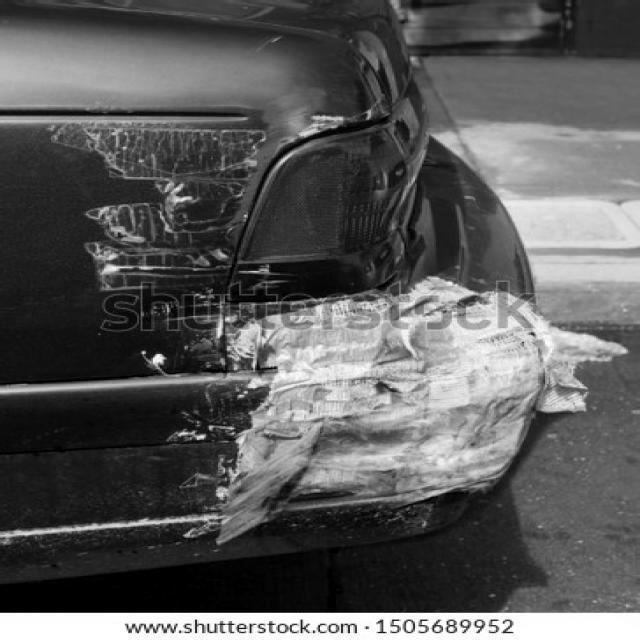quaterpanel-dent: (1, 109, 294, 384)
rear-bumper-dent: (1, 323, 632, 575), (312, 268, 608, 527)
